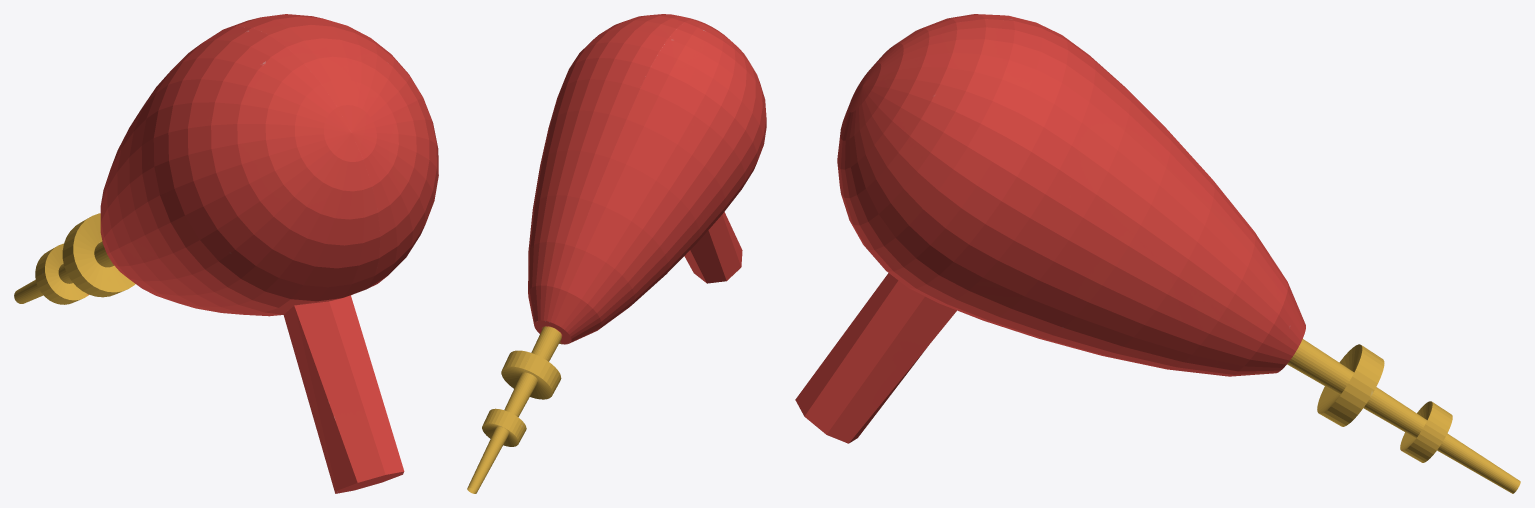
File: extraAlien.obj
3 renders of one model, left to right at view 1: azimuth 30°, elevation 25°; view 2: azimuth 150°, elevation 25°; view 3: azimuth 270°, elevation 25°, orthographic. The views are drawn at different scales.
Parts seen in each view (by area): view 1: alienPistola; view 2: alienPistola; view 3: alienPistola.
Part boxes in pixels (bbox=[...]): alienPistola: bbox=[14, 14, 438, 493]; alienPistola: bbox=[467, 14, 766, 493]; alienPistola: bbox=[795, 14, 1520, 493].
Size of the model in its own units: 0.4544 by 0.7887 by 1.11.
Materials: 1 (1 with a texture image).
